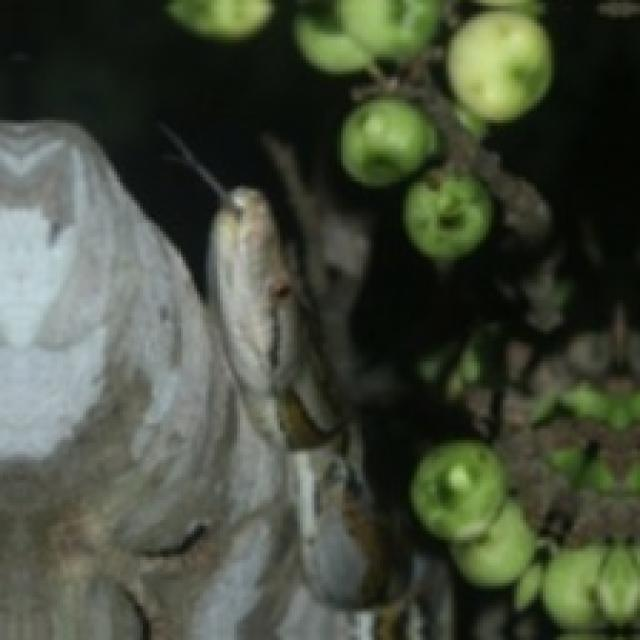reticulated python: (160, 123, 406, 606)
